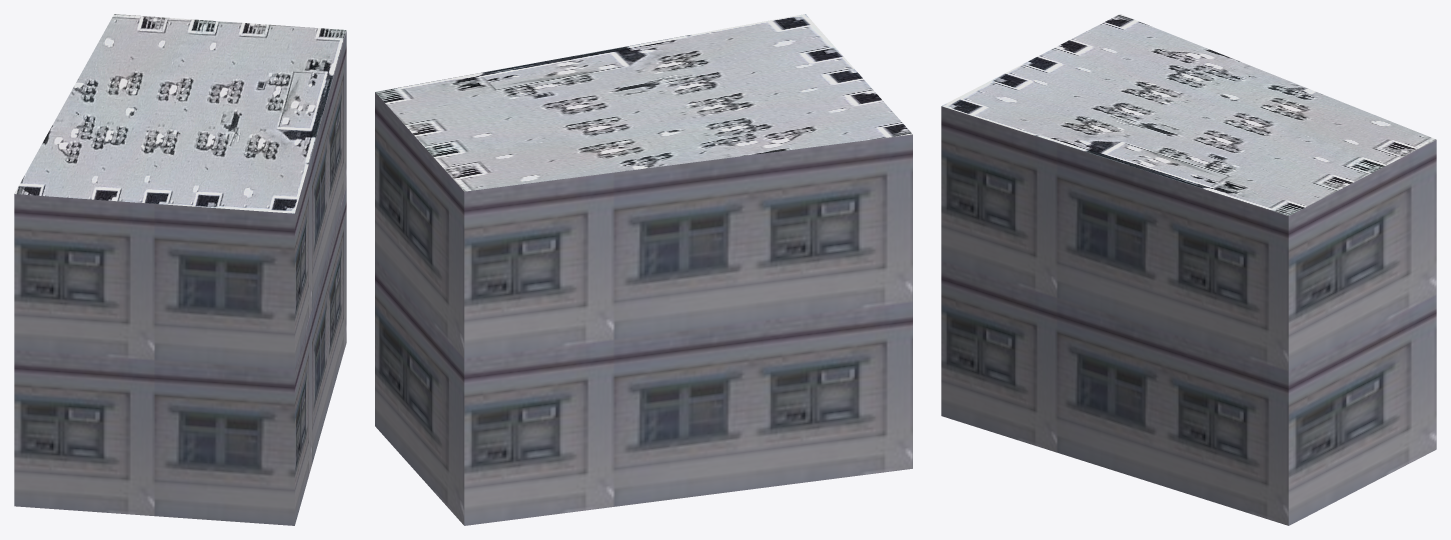
The model's file is ResTex__3235.fbx.
The picture shows the model from 3 angles, left to right: view 1: azimuth 30°, elevation 25°; view 2: azimuth 150°, elevation 25°; view 3: azimuth 270°, elevation 25°; orthographic projection. The views are drawn at different scales.
Visible parts, largest first — view 1: CityEngineMaterial_1_m, CityEngineMaterial_8_m; view 2: CityEngineMaterial_1_m, CityEngineMaterial_8_m; view 3: CityEngineMaterial_1_m, CityEngineMaterial_8_m.
Boxes of the visible parts, x1=… form: CityEngineMaterial_1_m: x1=14, y1=31, x2=346, y2=525; CityEngineMaterial_8_m: x1=14, y1=14, x2=346, y2=213; CityEngineMaterial_1_m: x1=375, y1=92, x2=912, y2=525; CityEngineMaterial_8_m: x1=375, y1=14, x2=912, y2=191; CityEngineMaterial_1_m: x1=941, y1=106, x2=1436, y2=525; CityEngineMaterial_8_m: x1=941, y1=14, x2=1436, y2=215.
Bounding box in the file's own units: 8.39 × 6 × 8.7.
Materials: 2 (2 with a texture image).
